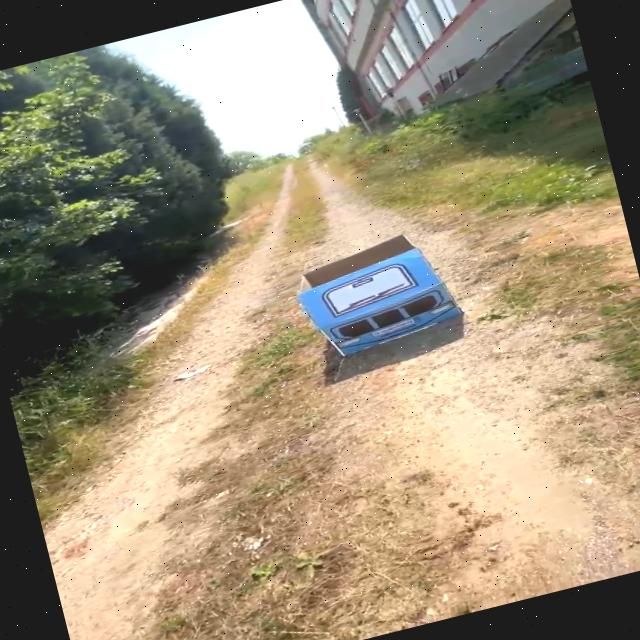blue_car: (279, 213, 491, 379)
